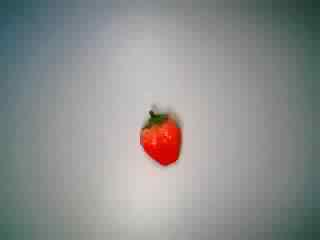strawberry: (129, 101, 191, 165)
